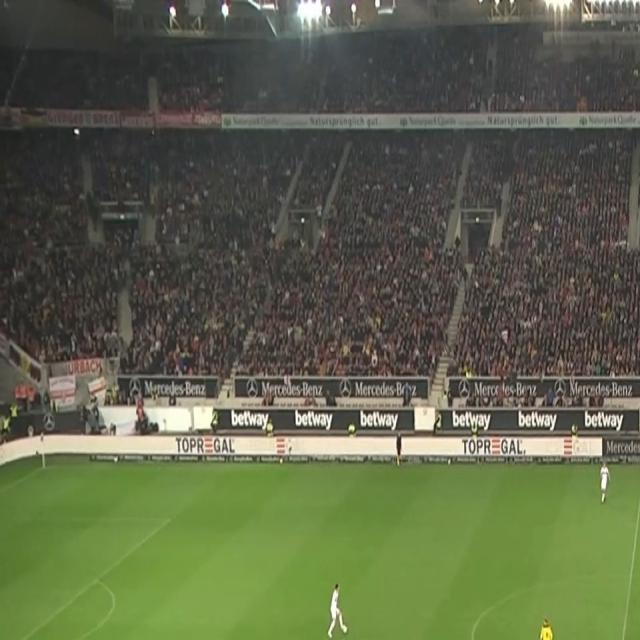ball: (342, 624, 348, 634)
